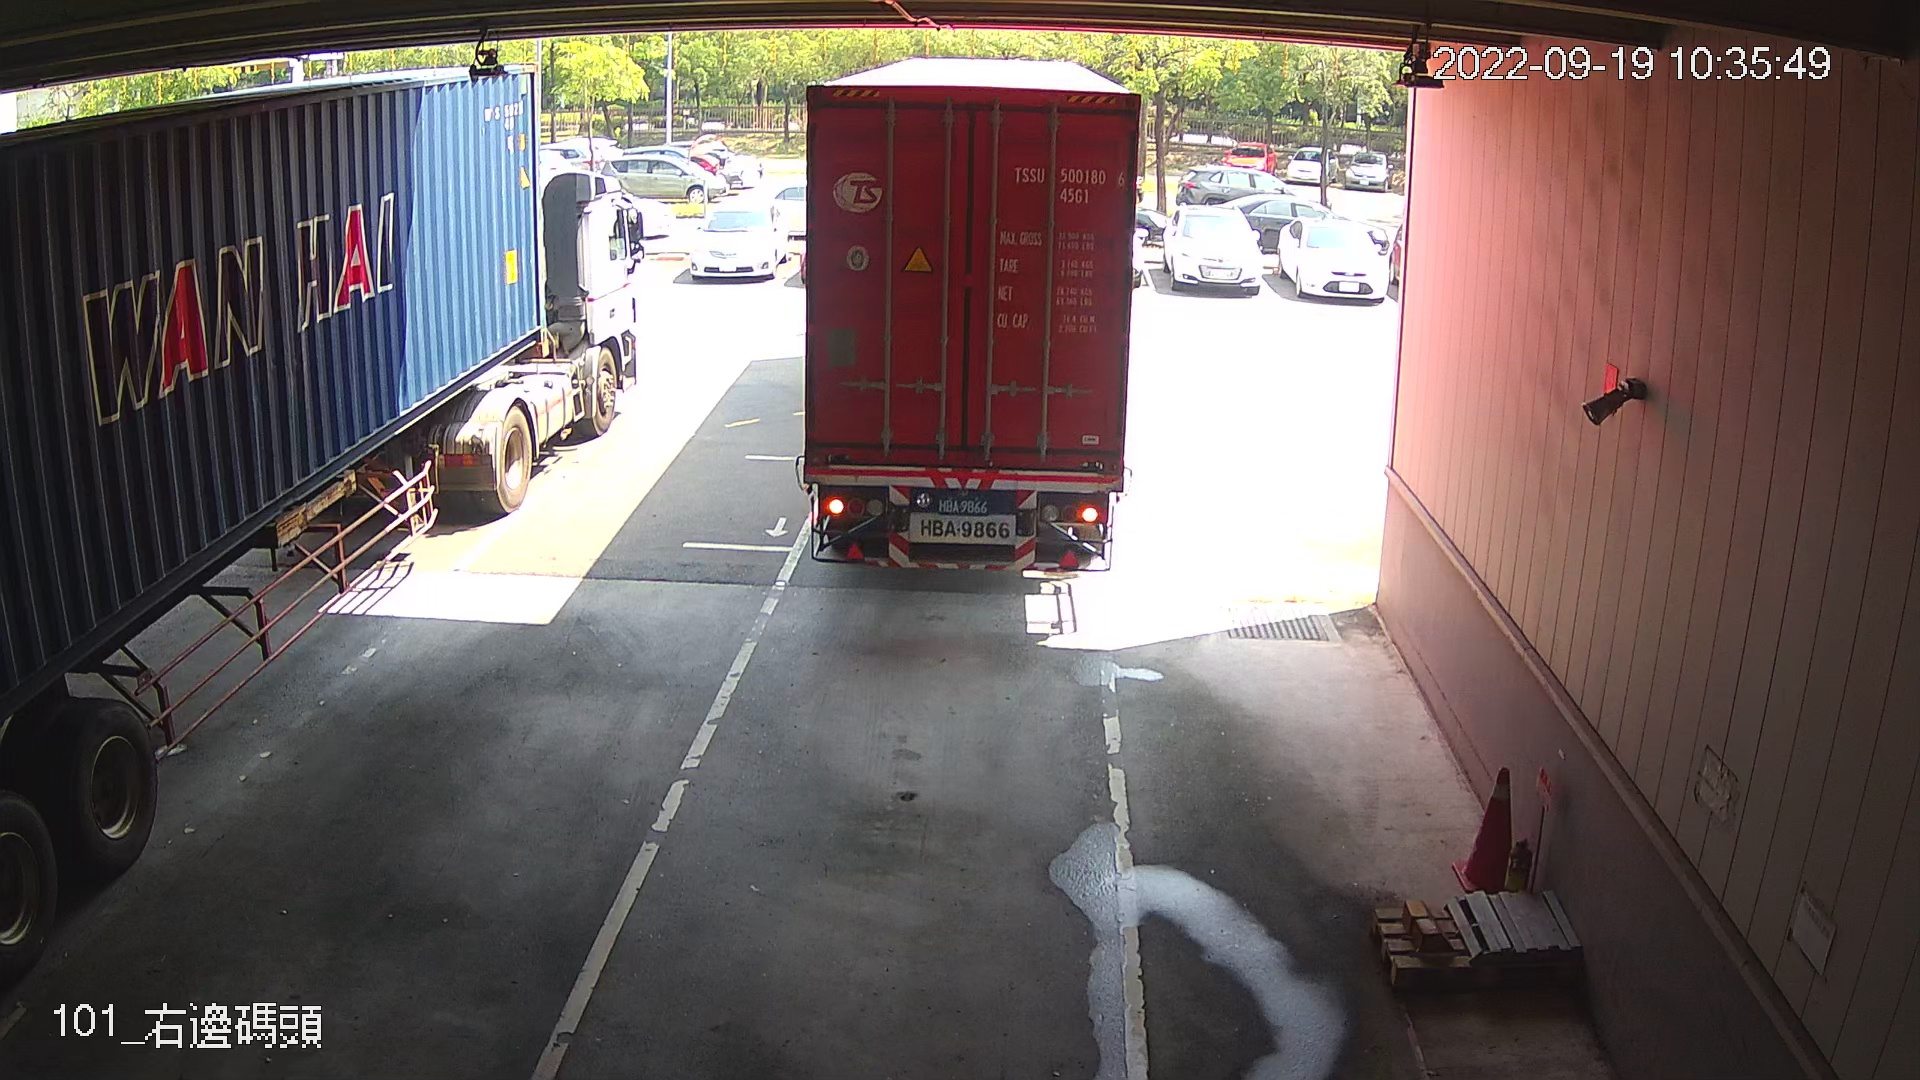container: (1007, 156, 1127, 212)
